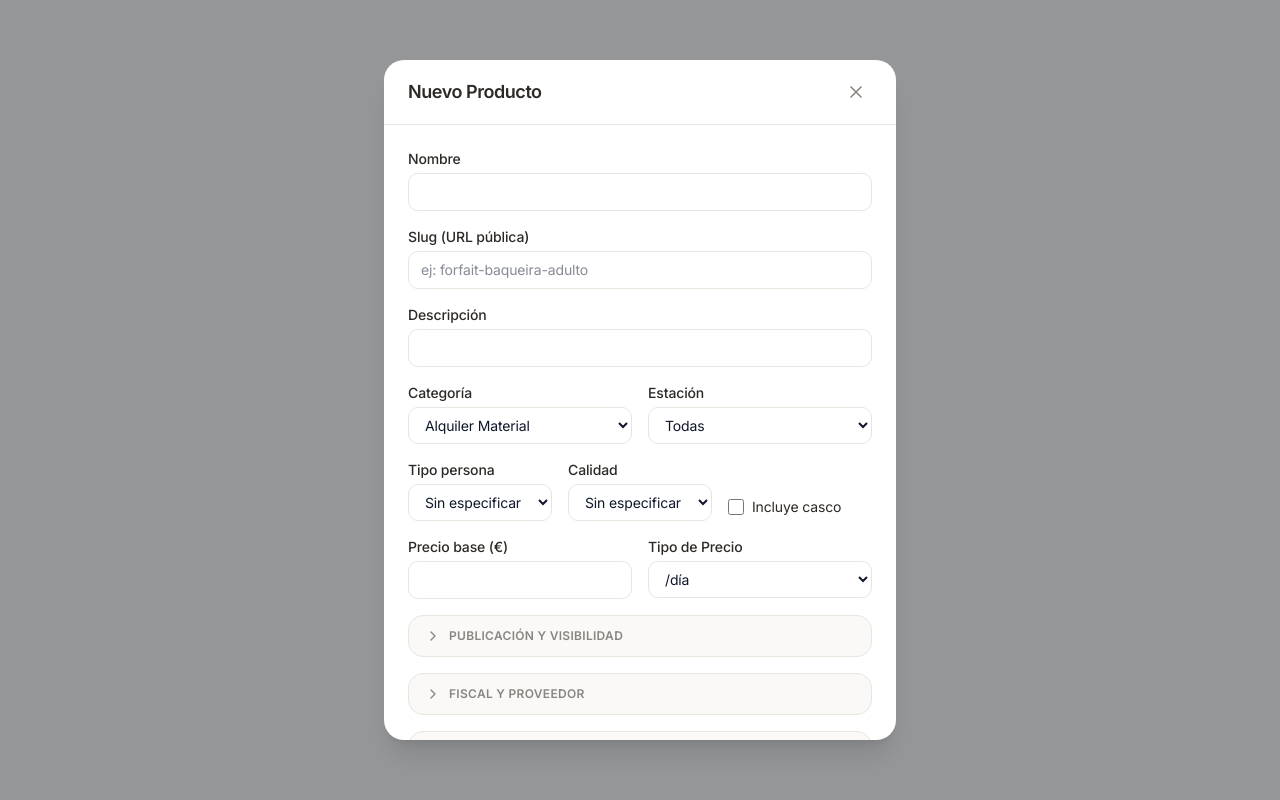
ProductModal — DOM behavior › auto-genera slug desde name en modo crear
This screenshot has width=1280, height=800.
In the field labelled "Nombre": coordinates (640, 192) left=408, top=173, right=872, bottom=211, type "Forfait Baqueira 3 días"
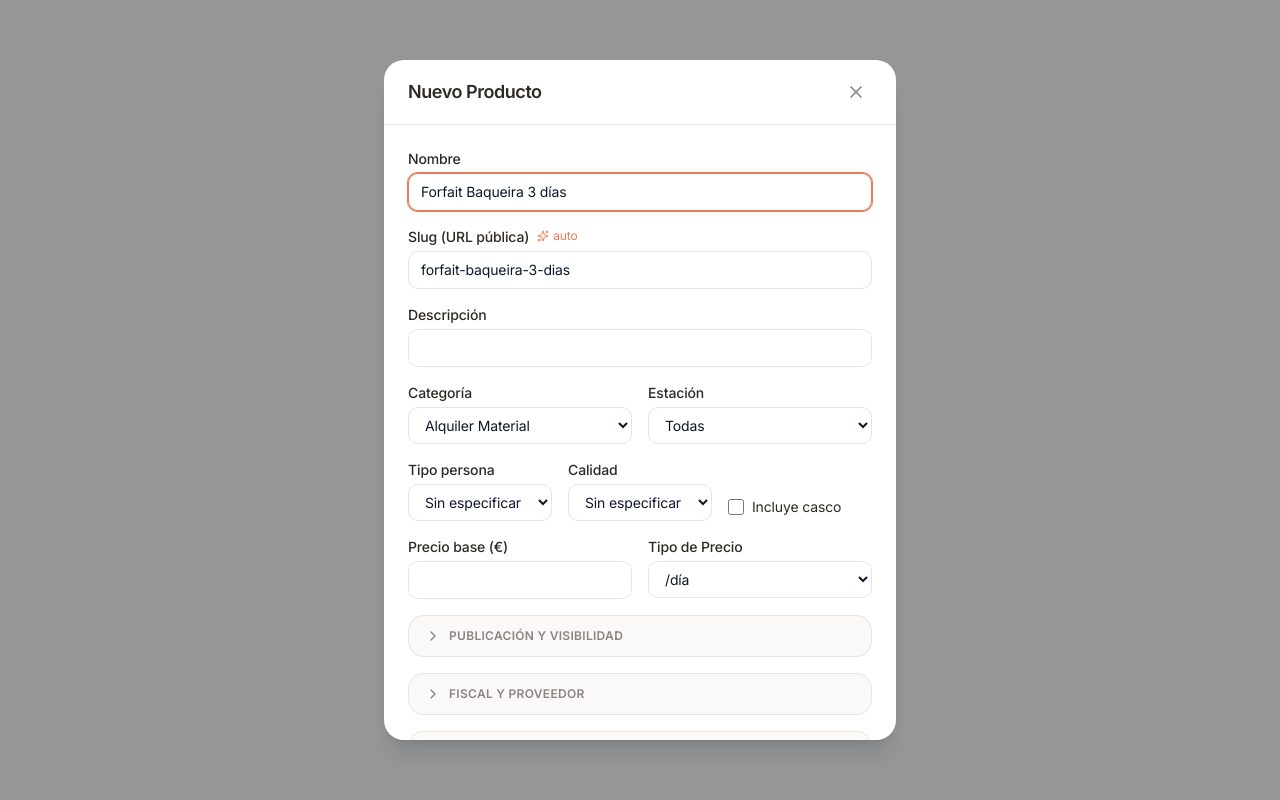
Now the field labelled "Slug (URL pública) auto" holds "forfait-baqueira-3-dias", box left=408, top=251, right=872, bottom=289
